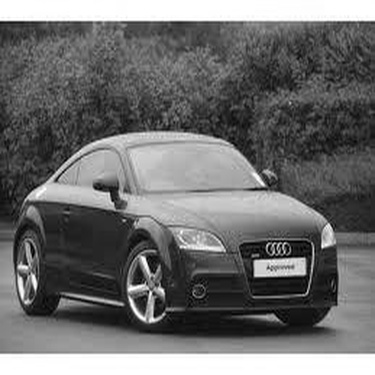car: (5, 127, 345, 331)
